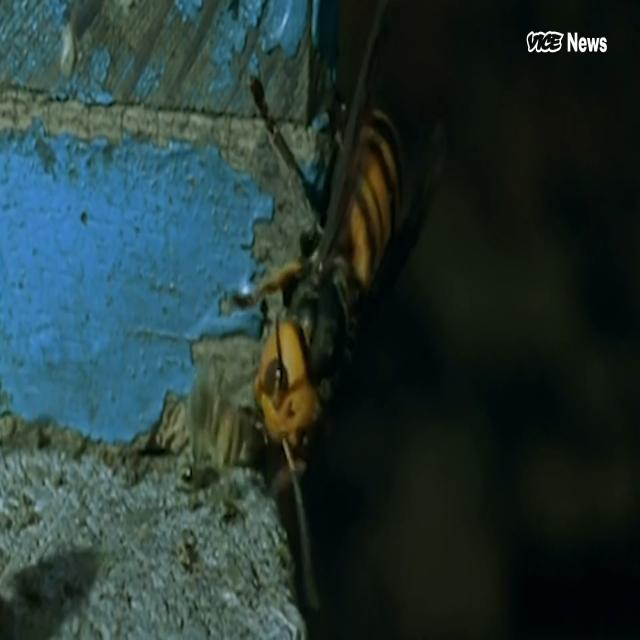Hornets: (228, 0, 452, 622)
